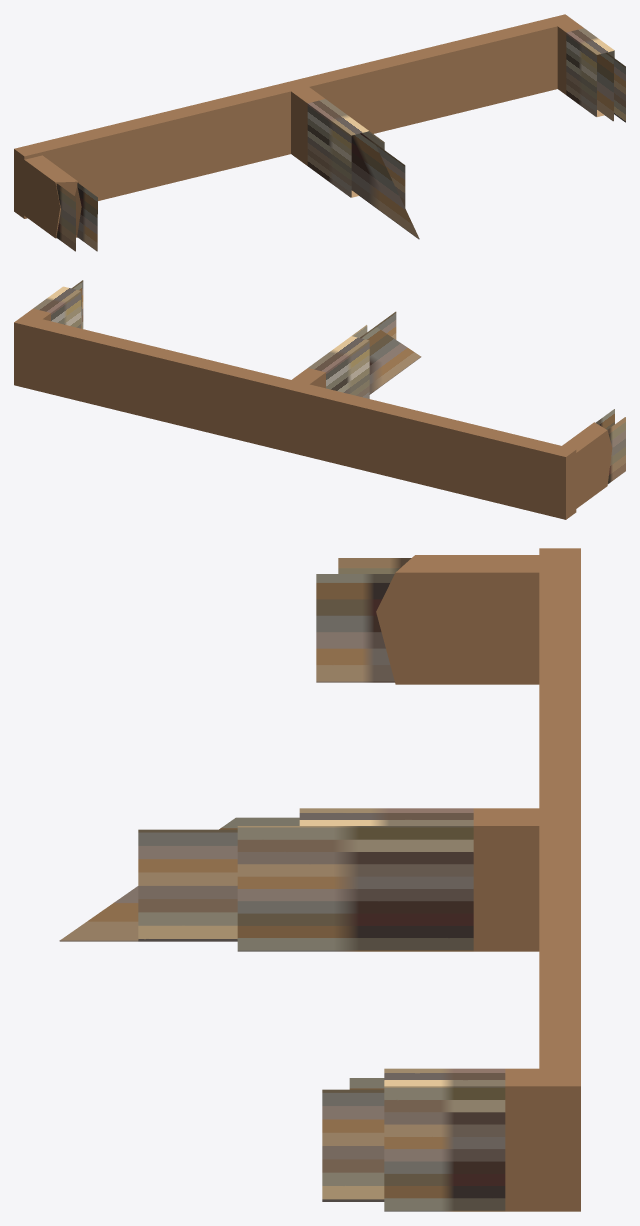
Rendered from DBK_WoodFrame_Floor_End_Short_A.fbx.
The picture shows the model from 3 angles, top to bottom: view 1: azimuth 30°, elevation 25°; view 2: azimuth 150°, elevation 25°; view 3: azimuth 270°, elevation 25°; orthographic projection. The views are drawn at different scales.
Visible parts, largest first — view 1: DBK_WoodFrame_Floor_End_Short_A; view 2: DBK_WoodFrame_Floor_End_Short_A; view 3: DBK_WoodFrame_Floor_End_Short_A.
Boxes of the visible parts, x1,y1,x2,y2 form: DBK_WoodFrame_Floor_End_Short_A: (14,14,625,251); DBK_WoodFrame_Floor_End_Short_A: (14,280,625,519); DBK_WoodFrame_Floor_End_Short_A: (59,548,580,1211).
Size of the model in its own units: 153 by 16.58 by 62.53.
